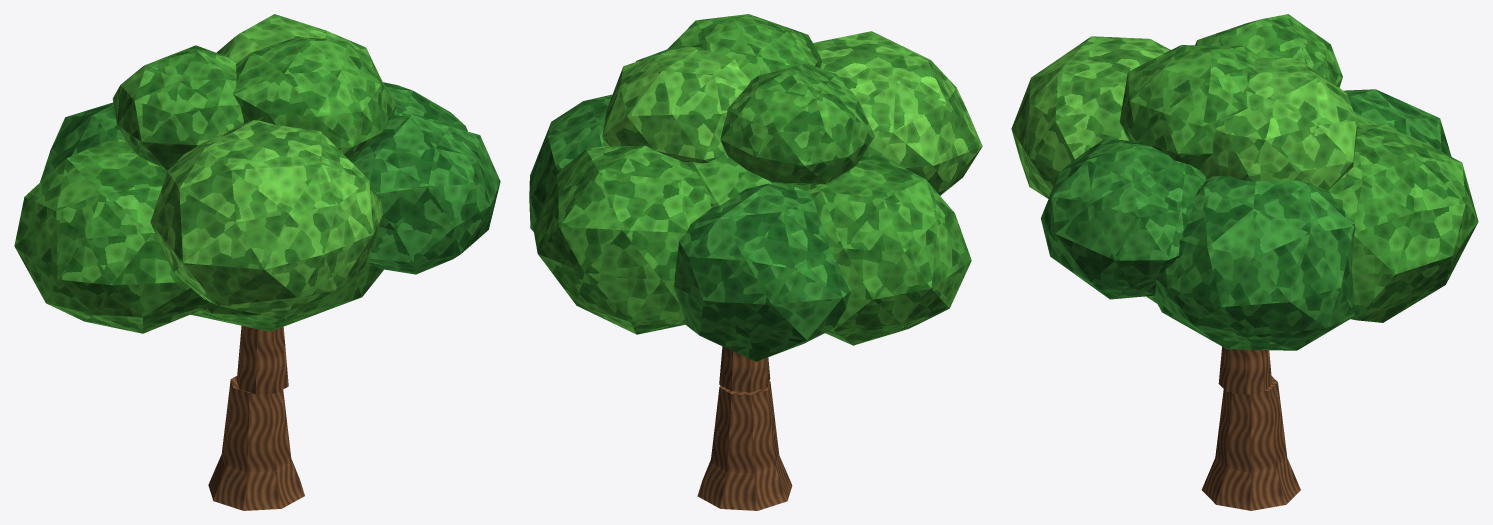
The model's file is tree_mahogany.glb.
The picture shows the model from 3 angles, left to right: view 1: azimuth 30°, elevation 25°; view 2: azimuth 150°, elevation 25°; view 3: azimuth 270°, elevation 25°; orthographic projection.
Parts seen in each view (by area): view 1: tree_mahogany; view 2: tree_mahogany; view 3: tree_mahogany.
Part boxes in pixels (x1,y1,x2,y2): tree_mahogany: (14,14,500,510); tree_mahogany: (529,14,982,510); tree_mahogany: (1011,14,1478,510).
Bounding box in the file's own units: 5.76 × 5.92 × 5.52.
Materials: 4 (4 with a texture image).
